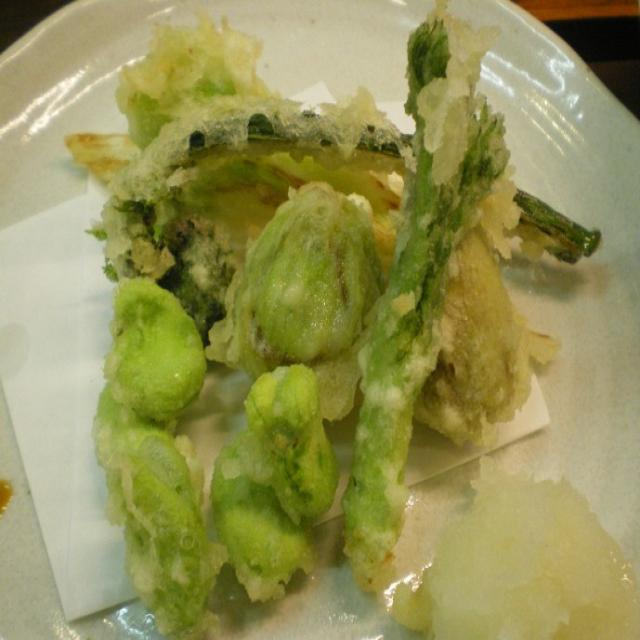蔬菜料理: (92, 0, 598, 640)
